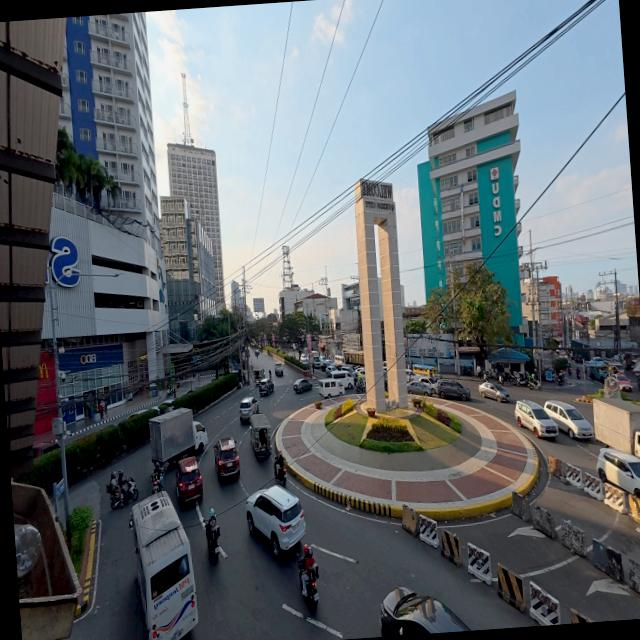car: (245, 484, 310, 562), (211, 434, 241, 479), (435, 377, 471, 402), (476, 378, 511, 403), (236, 396, 259, 416), (290, 377, 311, 395)
